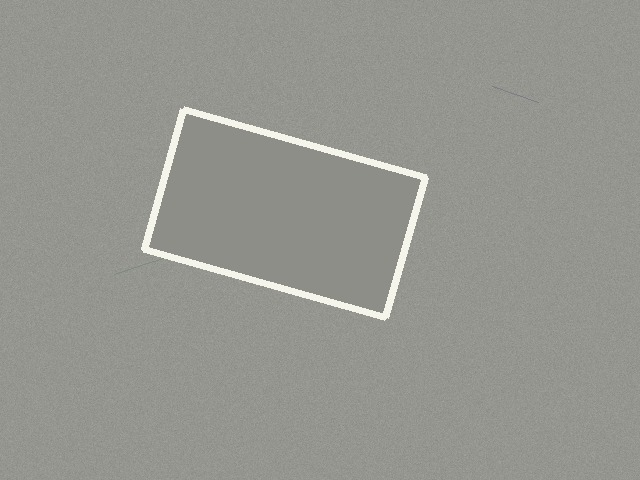parking_area: (144, 109, 425, 317)
